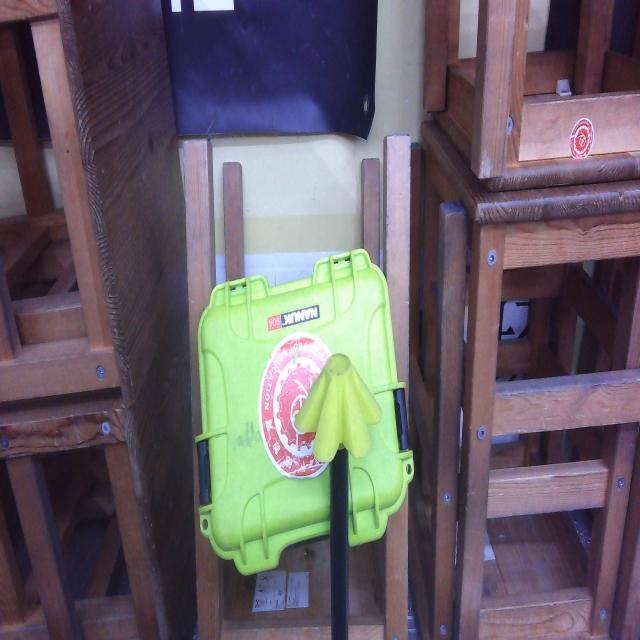Yellow-Stake-Head: (294, 353, 382, 463)
